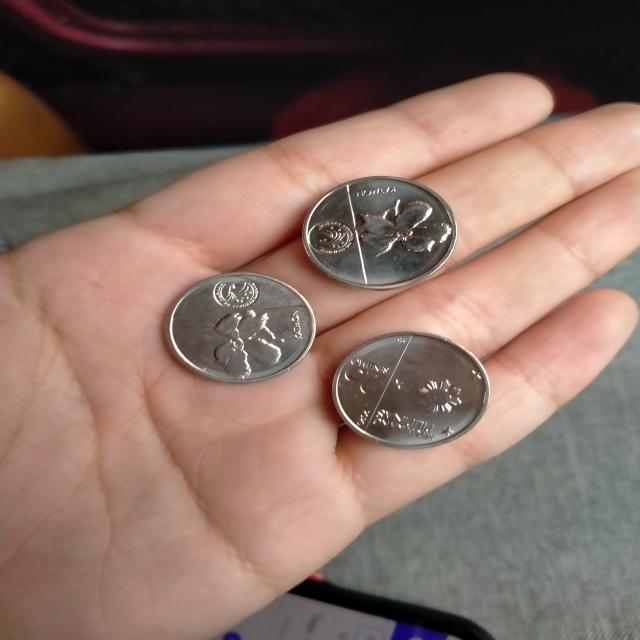25Cent_New_Back: (190, 307, 294, 373), (357, 202, 445, 262)
25Cent_New_Front: (338, 354, 392, 398)
